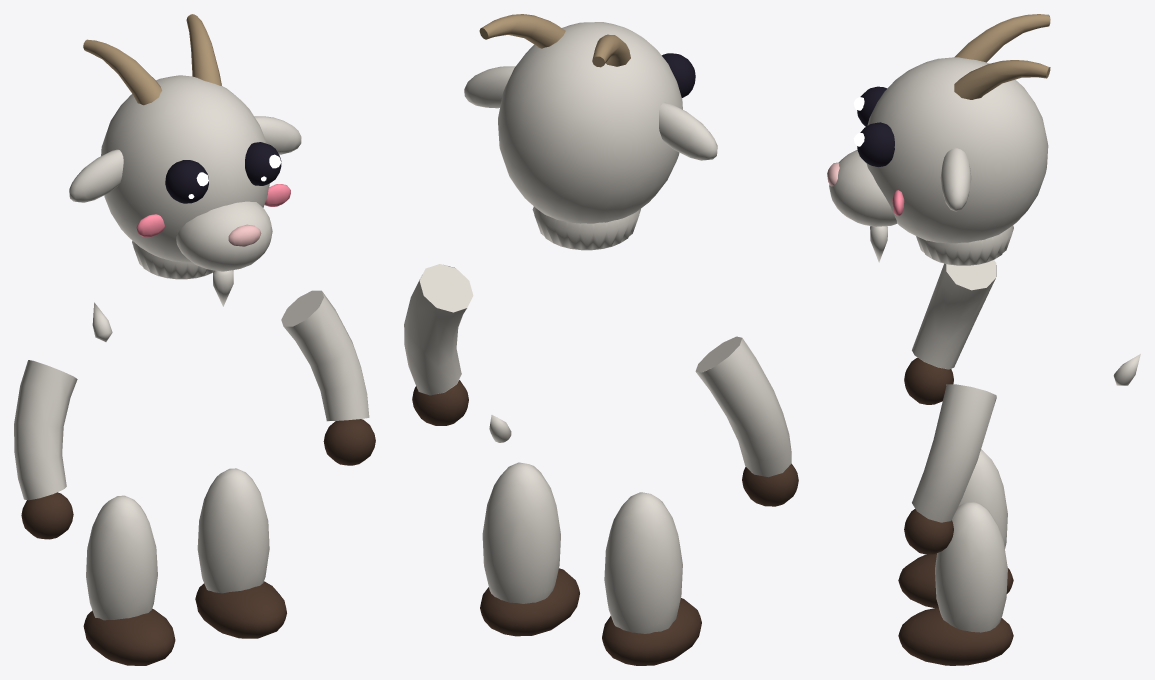
The model's file is tb_dyr_geit.glb.
3 renders of one model, left to right at view 1: azimuth 30°, elevation 25°; view 2: azimuth 150°, elevation 25°; view 3: azimuth 270°, elevation 25°, orthographic. The views are drawn at different scales.
Parts seen in each view (by area): view 1: hode, bein_hf, bein_vf, vinge_v, vinge_h; view 2: hode, bein_hf, bein_vf, vinge_v, vinge_h; view 3: hode, bein_hf, vinge_h, vinge_v, bein_vf, hale.
Boxes of the visible parts, x1,y1,x2,y2 form: hode: (69, 14, 301, 306); bein_hf: (195, 468, 286, 638); bein_vf: (83, 495, 175, 665); vinge_v: (14, 360, 77, 539); vinge_h: (281, 290, 375, 465); hode: (464, 14, 717, 250); bein_hf: (480, 462, 579, 636); bein_vf: (602, 492, 701, 665); vinge_v: (695, 336, 798, 506); vinge_h: (404, 264, 473, 425); hode: (827, 14, 1050, 265); bein_hf: (898, 502, 1013, 665); vinge_h: (904, 384, 996, 554); vinge_v: (904, 260, 996, 404); bein_vf: (898, 449, 1013, 607); hale: (1113, 354, 1140, 385).
Bounding box in the file's own units: 1.06 × 1.7 × 0.8155.
